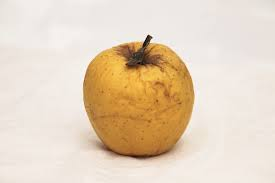damaged_apple: (80, 39, 197, 158)
